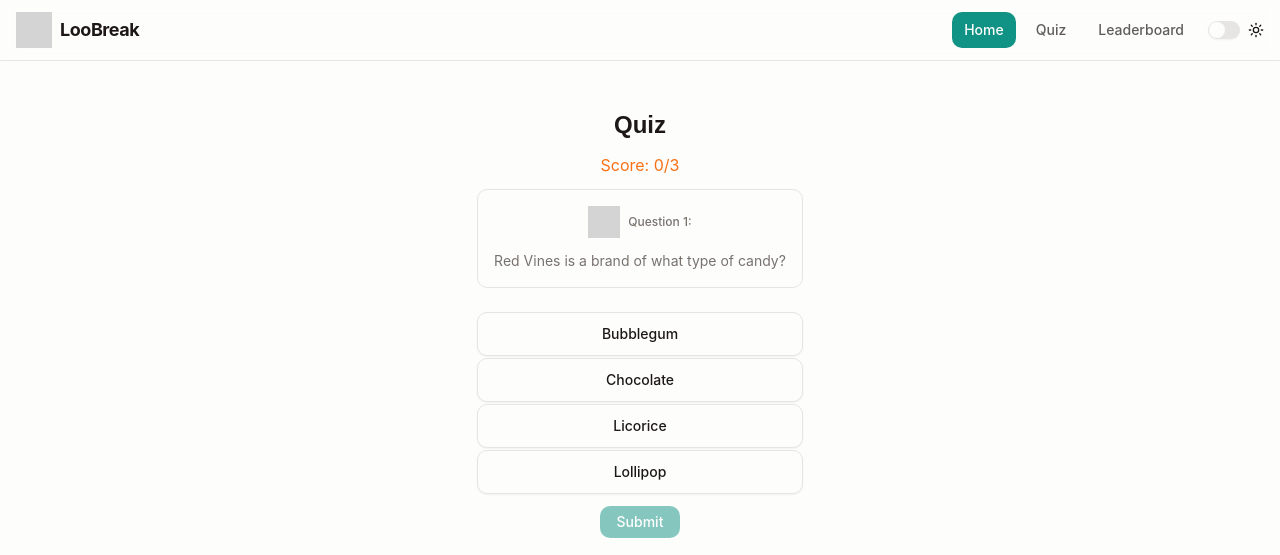
Test: Quiz Page › Allows user to select an answer and submit it. Answer buttons disable after submit and changes to arrow button
Check: the text "Red Vines is a brand of what type of candy?" is shown, box [494,250,786,271]
Click the button "Licorice": [640, 426] box [477,404,803,448]
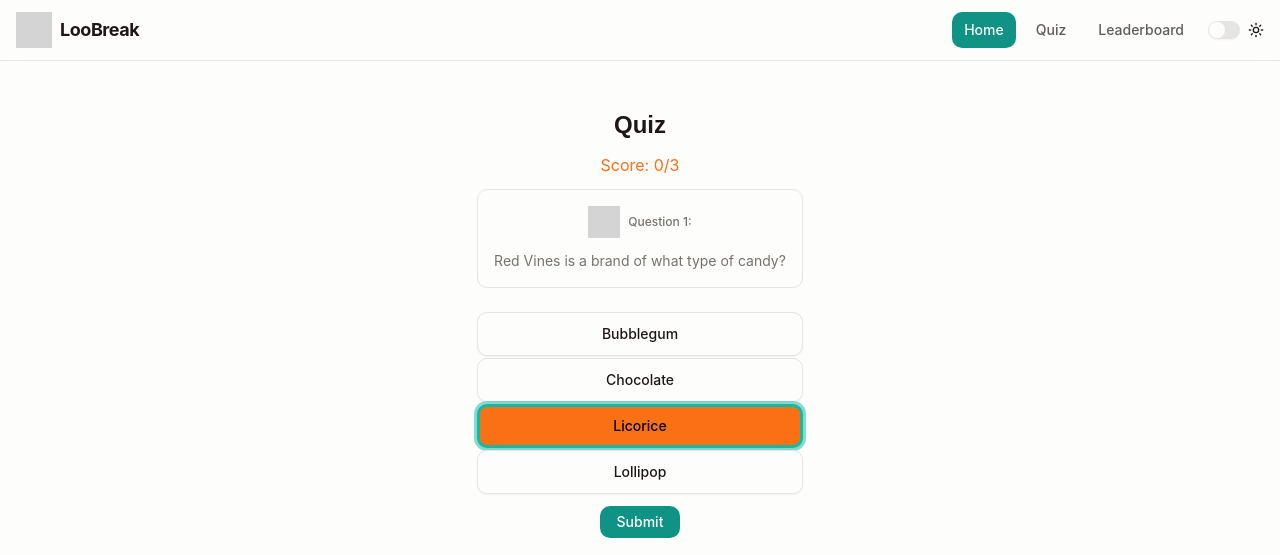
Check: the button "Submit" is enabled
Click the button "Submit": [640, 522] box [600,506,680,538]
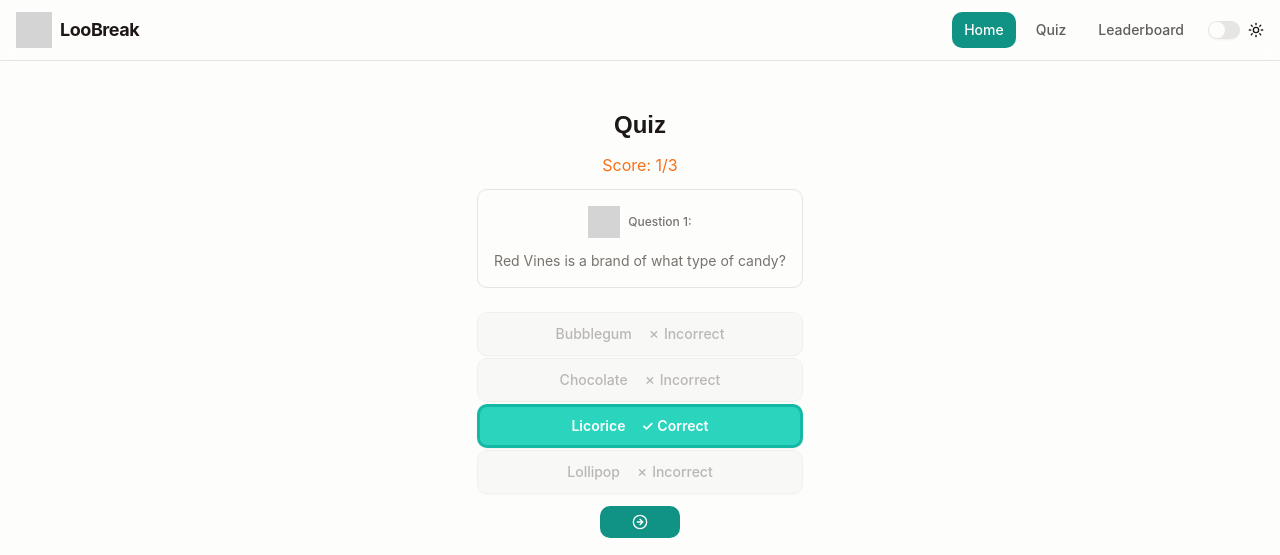
Check: the button "Licorice ✓ Correct" is disabled, box [477,404,803,448]
Check: the button "Submit" is gone
Check: the button with test id "arrow-button" is shown, box [600,506,680,538]
